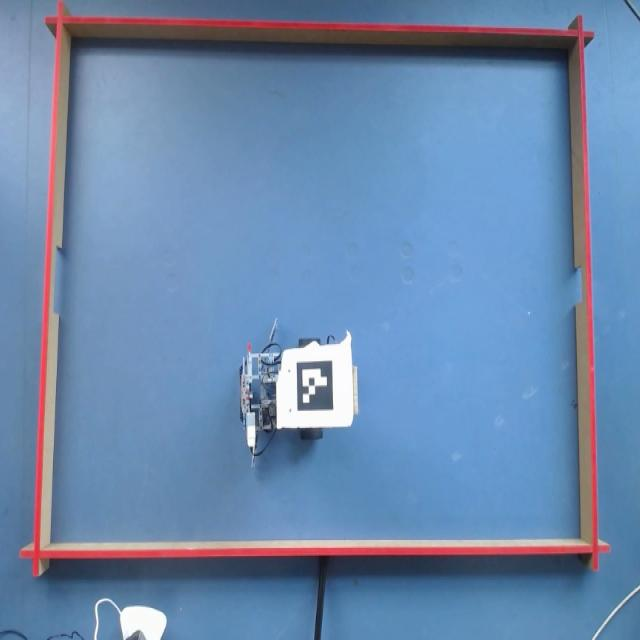ev3: (241, 335, 359, 455)
